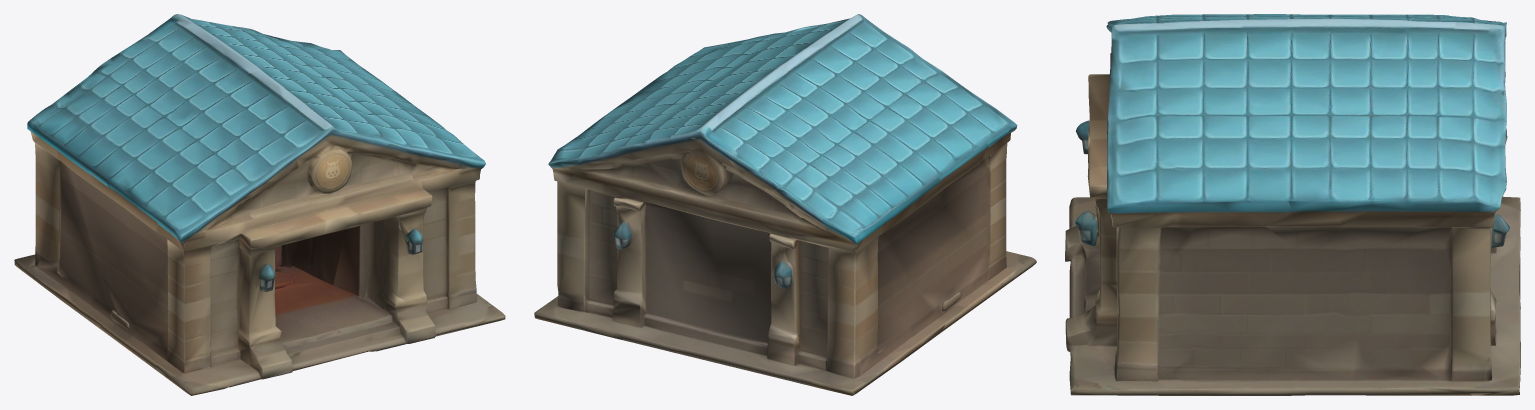
The model's file is diary.glb.
3 views of the same model, side by side, from view 1: azimuth 30°, elevation 25°; view 2: azimuth 150°, elevation 25°; view 3: azimuth 270°, elevation 25° (orthographic). The views are drawn at different scales.
Size of the model in its own units: 2 by 1.36 by 2.
1 material, 1 textured.
